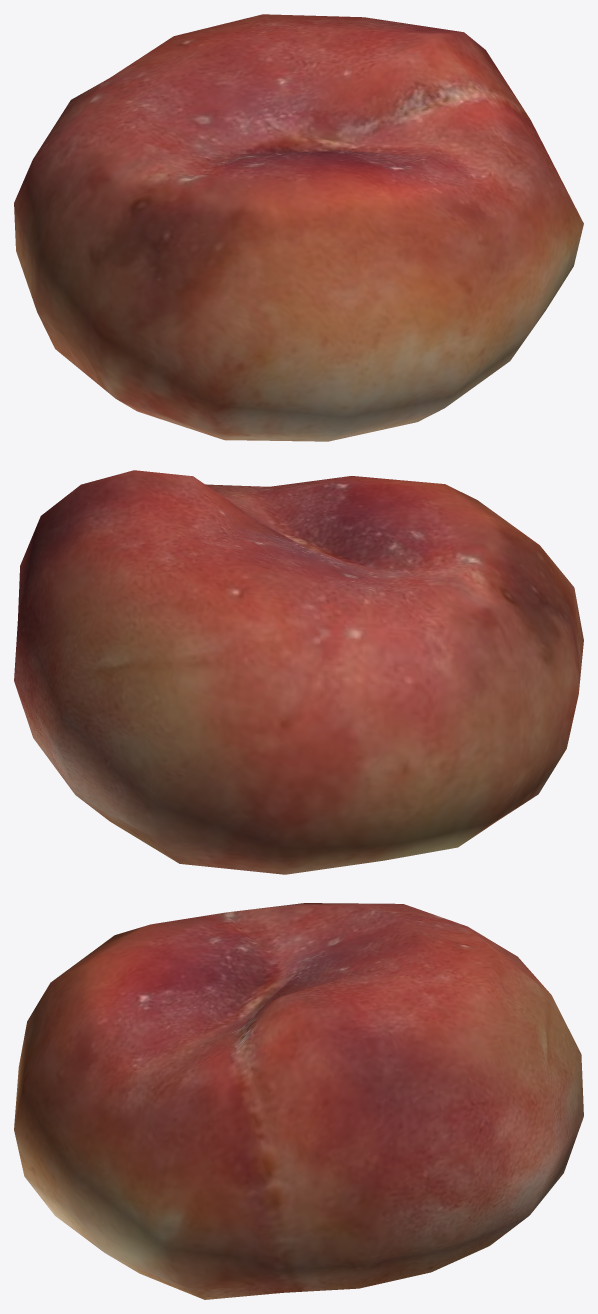
File: A51_Peach_low.fbx
3 renders of one model, top to bottom at view 1: azimuth 30°, elevation 25°; view 2: azimuth 150°, elevation 25°; view 3: azimuth 270°, elevation 25°, orthographic. The views are drawn at different scales.
Parts seen in each view (by area): view 1: A51_Peach_low; view 2: A51_Peach_low; view 3: A51_Peach_low.
Part boxes in pixels (<box>): A51_Peach_low: <box>14,14,583,441</box>; A51_Peach_low: <box>14,470,583,874</box>; A51_Peach_low: <box>14,903,583,1299</box>.
Bounding box in the file's own units: 7.57 × 7.76 × 4.53.
1 material, 1 textured.
